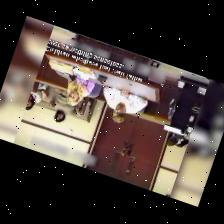person: (103, 86, 148, 122), (50, 88, 81, 121), (67, 76, 95, 105), (26, 82, 47, 109), (167, 132, 184, 145), (177, 139, 189, 146)
